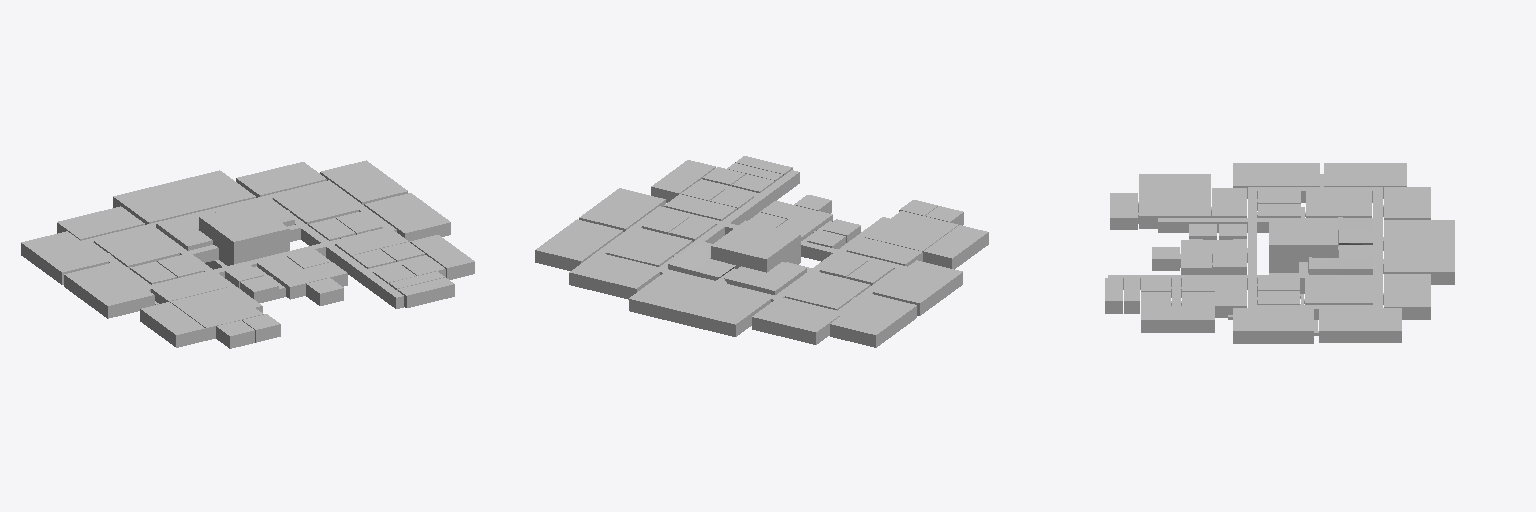
Rendered from ModeloMapa.obj.
3 renders of one model, left to right at view 1: azimuth 30°, elevation 25°; view 2: azimuth 150°, elevation 25°; view 3: azimuth 270°, elevation 25°, orthographic.
Parts seen in each view (by area): view 1: Plane_Plane.002; view 2: Plane_Plane.002; view 3: Plane_Plane.002.
Boxes of the visible parts, x1,y1,x2,y2 form: Plane_Plane.002: [21, 160, 474, 348]; Plane_Plane.002: [535, 156, 988, 347]; Plane_Plane.002: [1105, 163, 1454, 343].
Size of the model in its own units: 85.51 by 11.75 by 75.54.